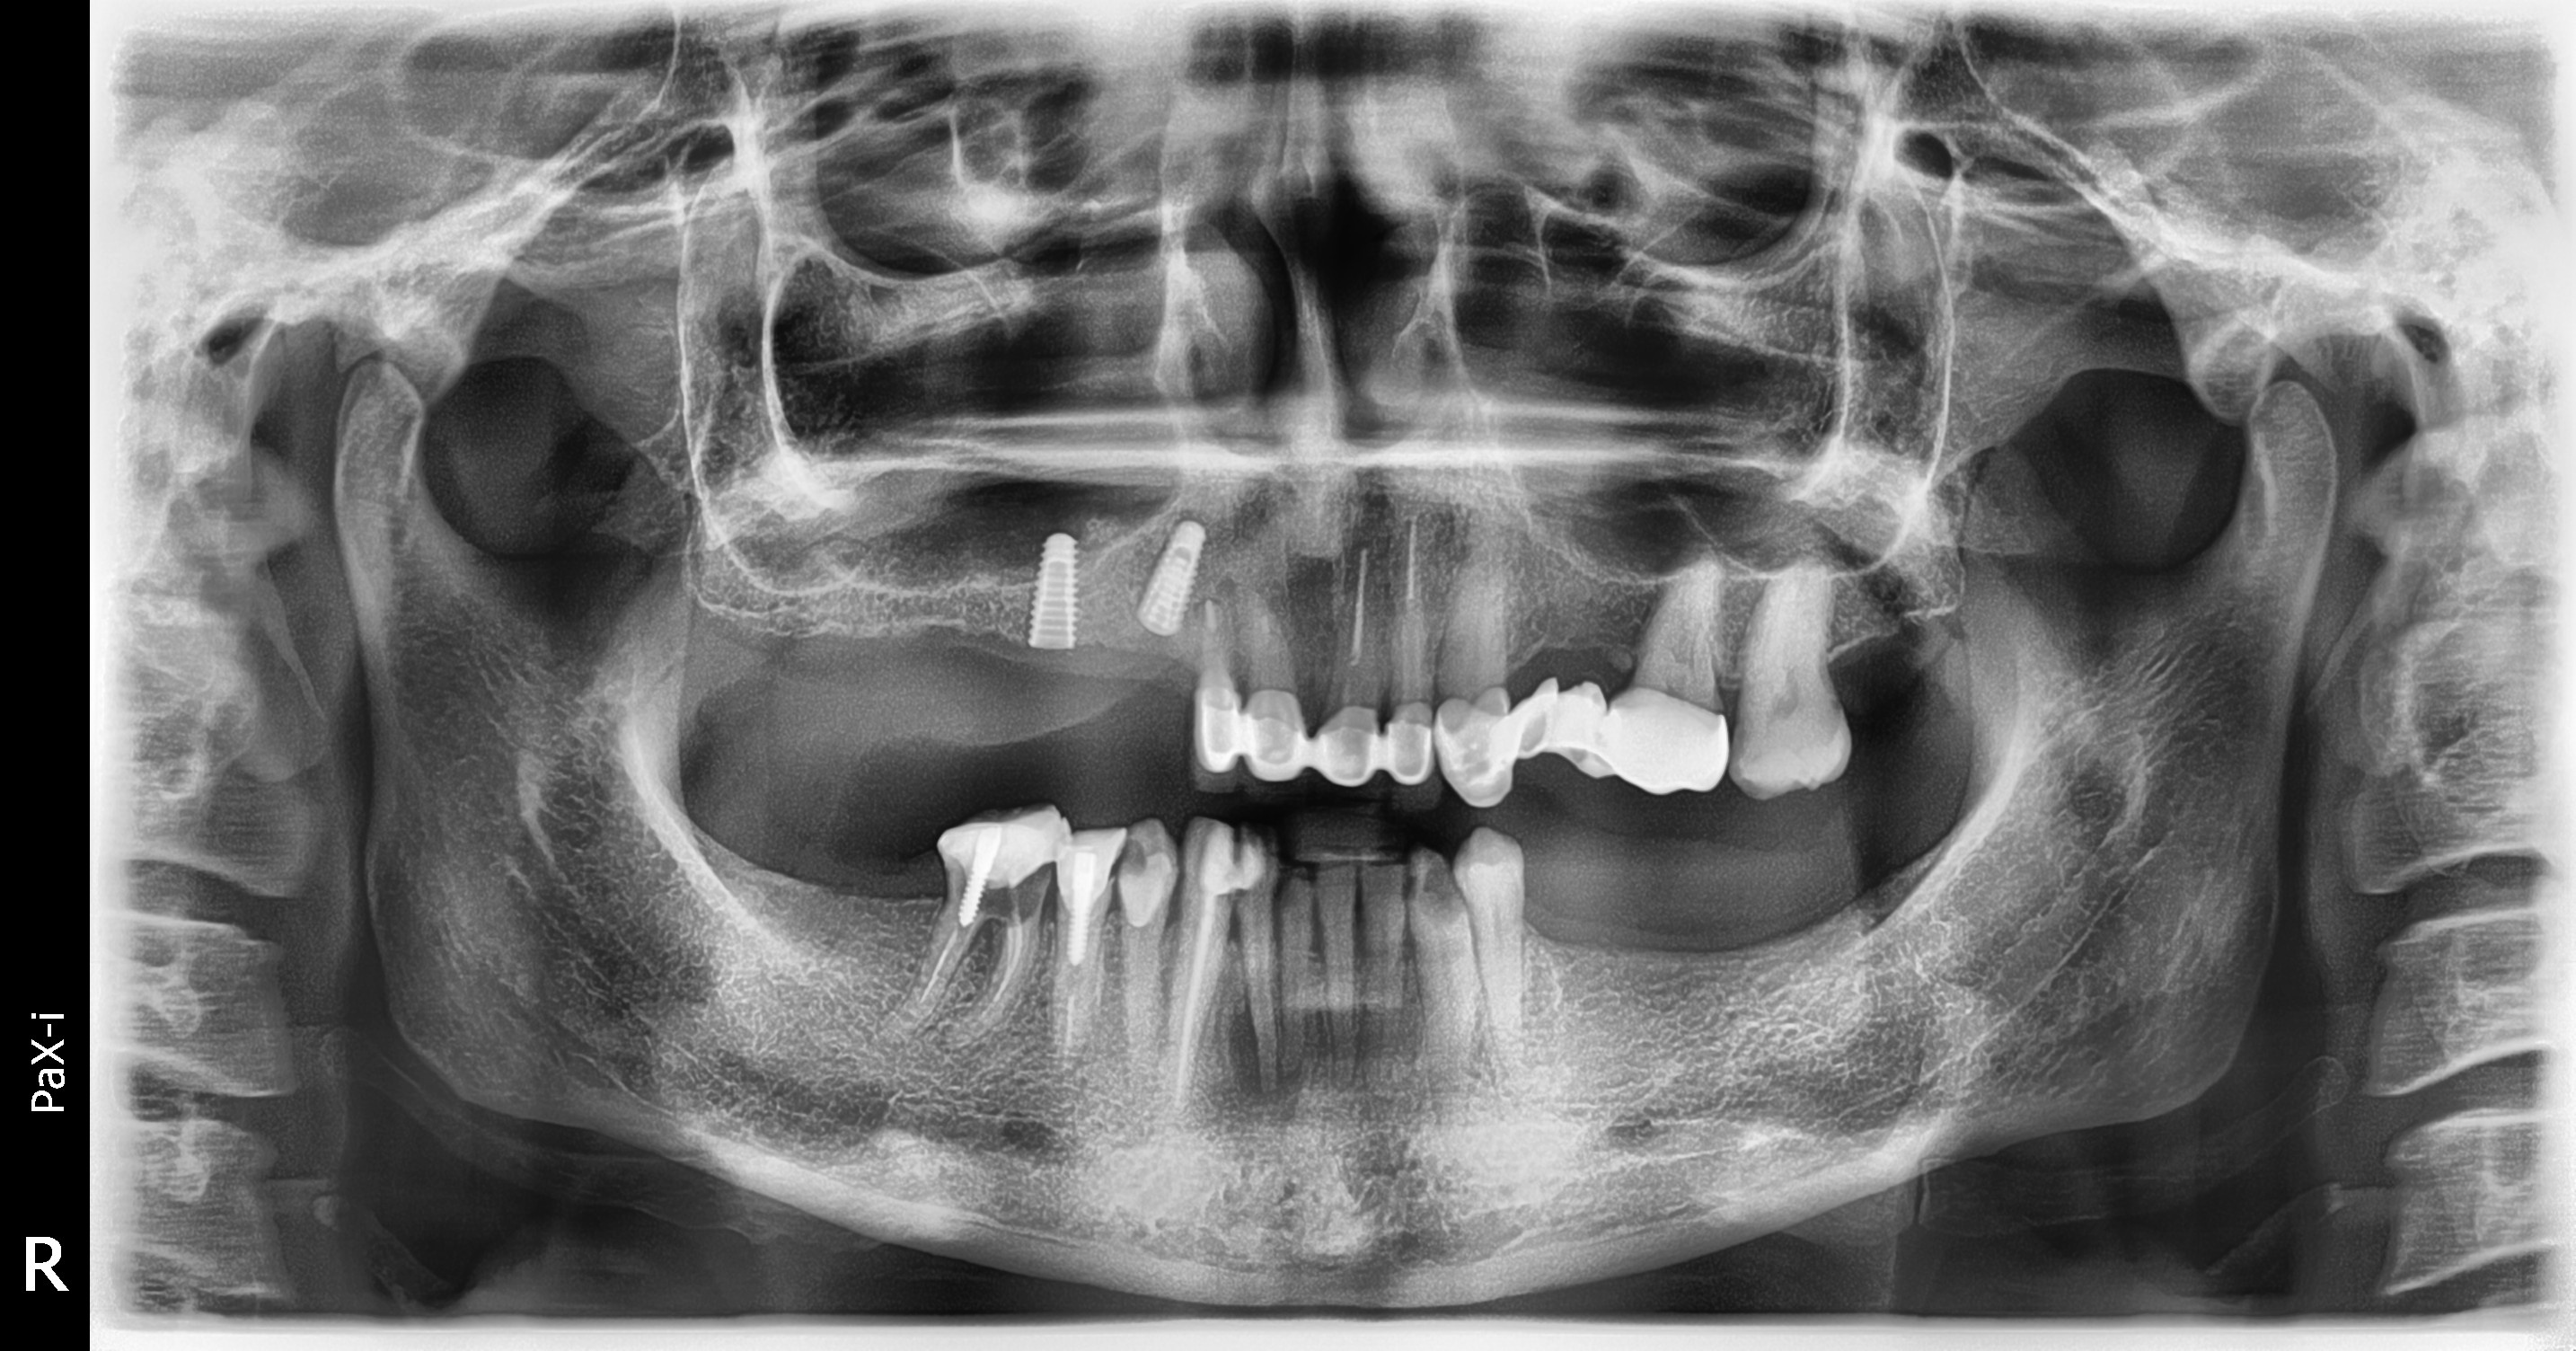END: (1165, 893, 1227, 1095), (922, 923, 1024, 1024), (1049, 915, 1101, 1066), (1339, 537, 1373, 673), (1394, 513, 1428, 613)
IMP: (1135, 518, 1208, 635), (1022, 532, 1085, 651)
OBT: (947, 806, 1065, 888), (1056, 821, 1128, 913), (1121, 831, 1179, 927), (1203, 823, 1268, 891)
PRR: (1191, 678, 1729, 801)
